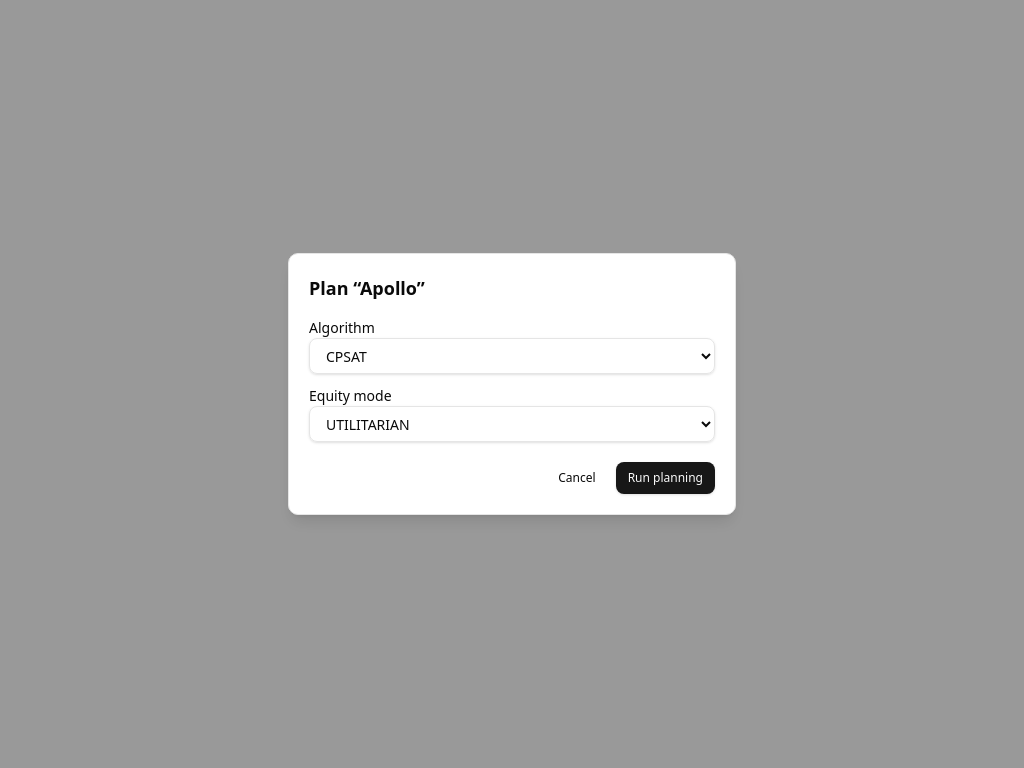
Test: LaunchPlanningModal › shows a clear message on an INFEASIBLE result
Click the button "Run planning" at point(665, 478), box [616,462,715,494]
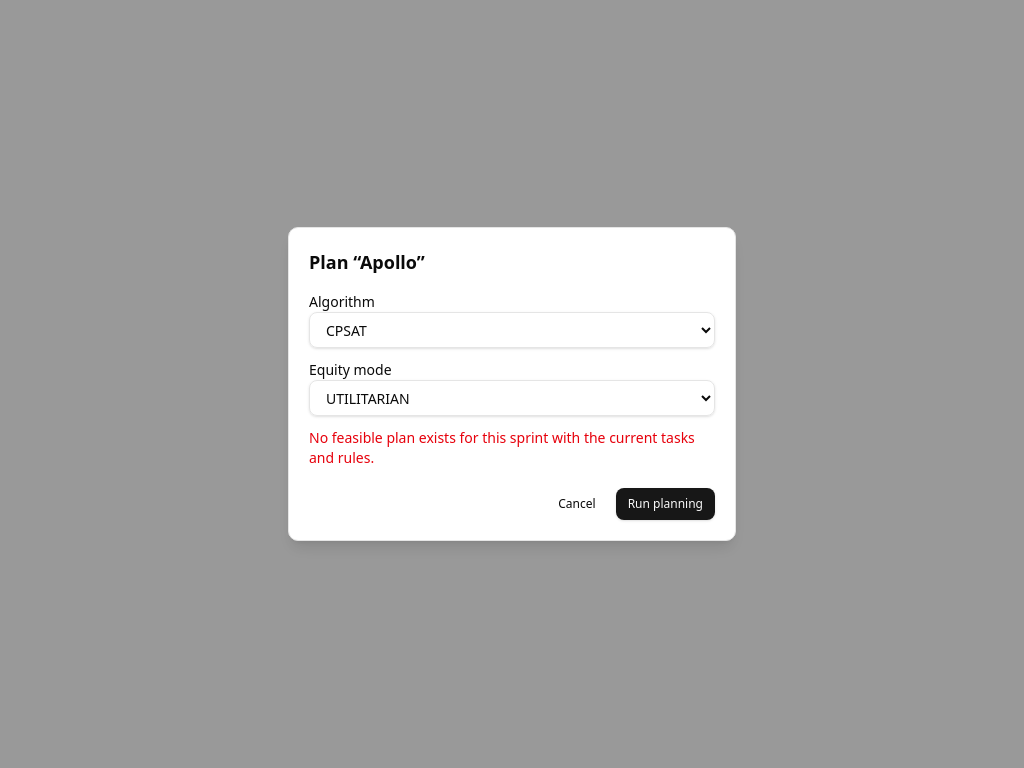
expect the message shows "No feasible plan": met, box [309,428,695,467]
